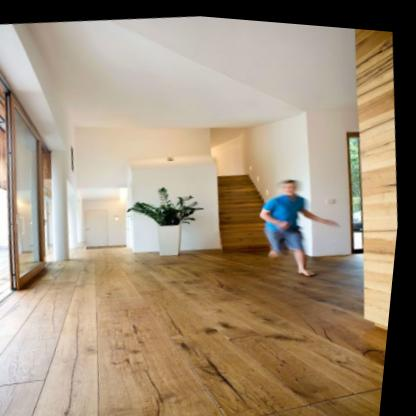Wooden floor: (0, 236, 394, 416)
